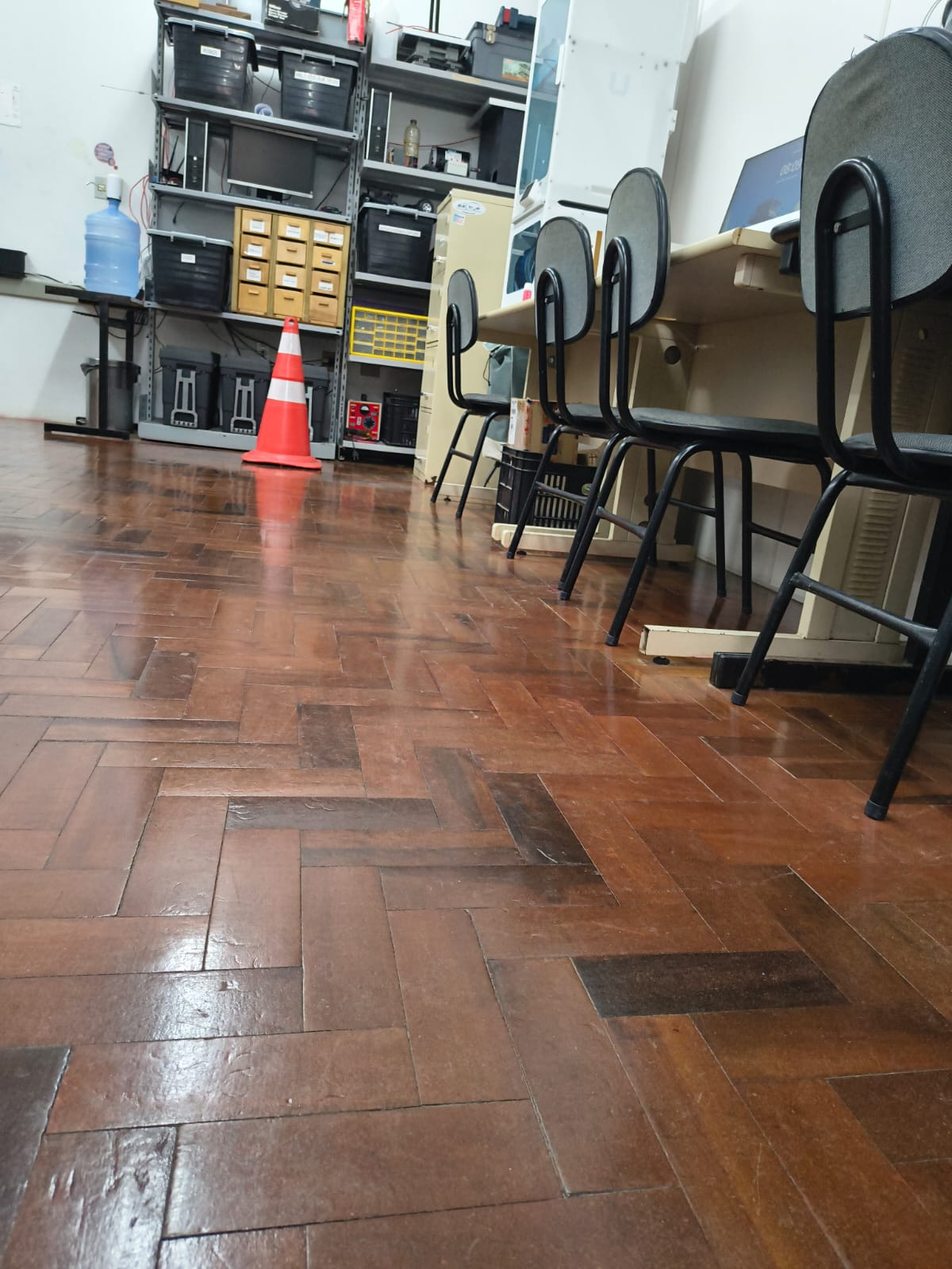cone: (238, 320, 328, 485)
